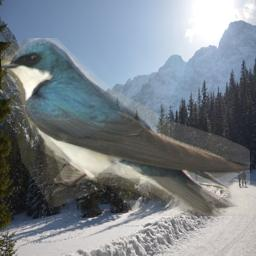Swallow: (1, 38, 250, 216)
